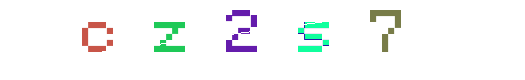2: (206, 0, 286, 80)
7: (346, 0, 426, 80)
C: (56, 0, 136, 80)
S: (223, 0, 303, 80)
Z: (196, 0, 276, 80)
